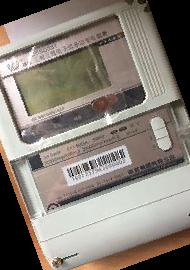digital: (1, 1, 187, 270)
